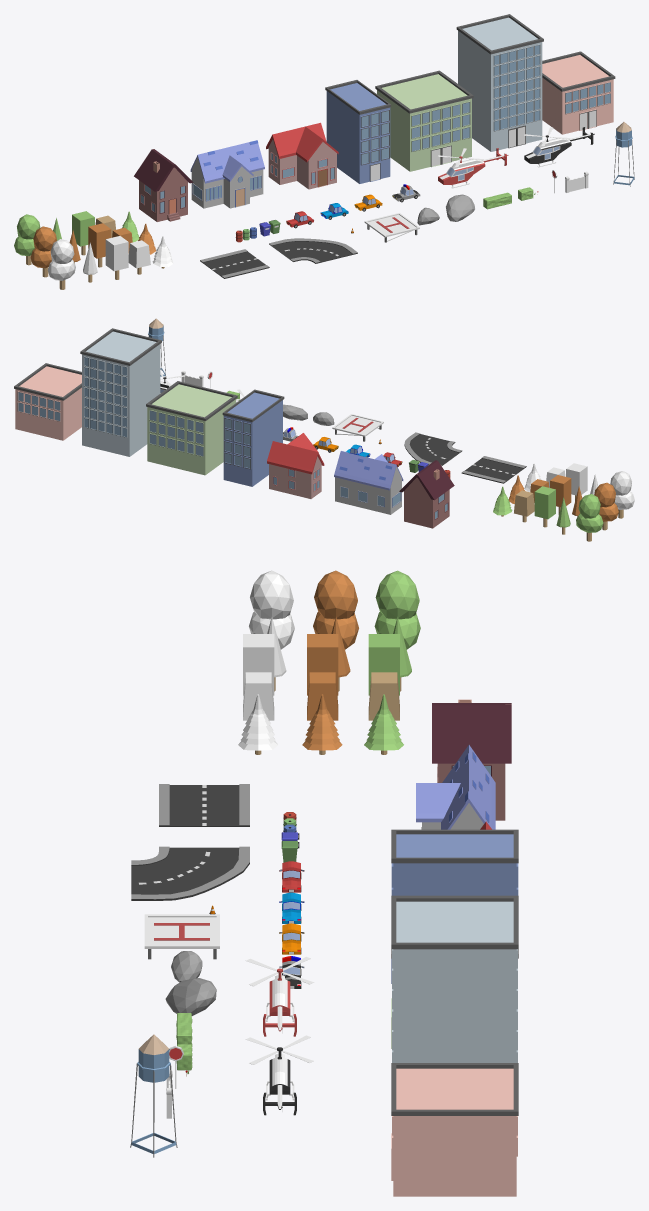
The model's file is LowPolyAssets2.fbx.
The picture shows the model from 3 angles, top to bottom: view 1: azimuth 30°, elevation 25°; view 2: azimuth 150°, elevation 25°; view 3: azimuth 270°, elevation 25°; orthographic projection. The views are drawn at different scales.
Parts seen in each view (by area): view 1: Building3, Building2, Building1, Building4, Church, House2, House01, RoadRound, RoadStraight, TreeRoundOrange.001, PoliceHelichopter, Helicopter (+9 smaller); view 2: Building3, Building2, Building1, Building4, Church, House2, House01, RoadRound, RoadStraight, TreeRoundGreen, Helipad, TreeRoundOrange.001 (+7 smaller); view 3: Building3, Building4, Building1, House01, RoadRound, Church, RoadStraight, Helipad, TreeRoundOrange.001, TreeRoundGreen, TreeRoundOrange, Cylinder (+12 smaller).
Part boxes in pixels (box(x1,y1,x2,y2)): Building3: box(456, 14, 543, 151); Building2: box(375, 70, 473, 171); Building1: box(325, 80, 391, 183); Building4: box(542, 51, 615, 134); Church: box(190, 140, 264, 208); House2: box(266, 122, 338, 189); House01: box(134, 149, 193, 221); RoadRound: box(269, 238, 357, 263); RoadStraight: box(200, 249, 269, 278); TreeRoundOrange.001: box(47, 239, 75, 289); PoliceHelichopter: box(524, 127, 594, 167); Helicopter: box(438, 148, 508, 188); Building3: box(80, 328, 161, 456); Building2: box(146, 381, 237, 475); Building1: box(222, 389, 284, 486); Building4: box(14, 363, 81, 440); Church: box(334, 451, 403, 514); House2: box(267, 433, 324, 498); House01: box(399, 460, 454, 528); RoadRound: box(404, 432, 462, 465); RoadStraight: box(461, 456, 526, 483); TreeRoundGreen: box(576, 494, 603, 541); Helipad: box(332, 414, 383, 441); TreeRoundOrange.001: box(610, 471, 634, 518); Building3: box(391, 896, 518, 1062); Building4: box(391, 1063, 518, 1196); Building1: box(391, 829, 518, 983); House01: box(432, 699, 511, 820); RoadRound: box(131, 846, 249, 900); Church: box(416, 745, 495, 829); RoadStraight: box(159, 784, 249, 826); Helipad: box(144, 914, 219, 959); TreeRoundOrange.001: box(249, 570, 294, 649); TreeRoundGreen: box(374, 570, 420, 649); TreeRoundOrange: box(313, 570, 358, 649); Cylinder: box(130, 1034, 177, 1157).
Size of the model in its own units: 1487 by 247 by 449.
